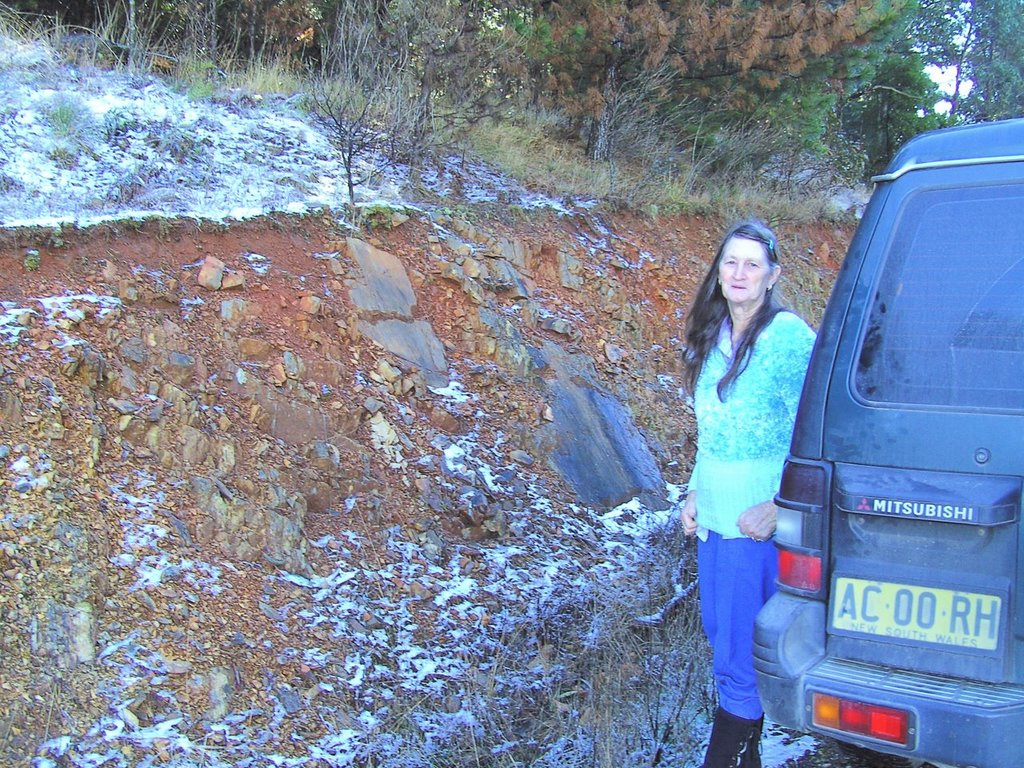Car: (769, 119, 1018, 768)
